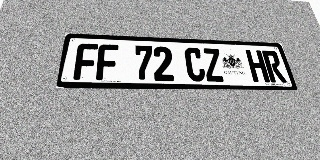2: (153, 46, 174, 81)
7: (134, 45, 154, 81)
C: (184, 47, 206, 82)
F: (73, 43, 98, 80), (96, 44, 118, 80)
H: (245, 50, 270, 82)
R: (261, 50, 287, 83)
Z: (202, 48, 225, 82)
